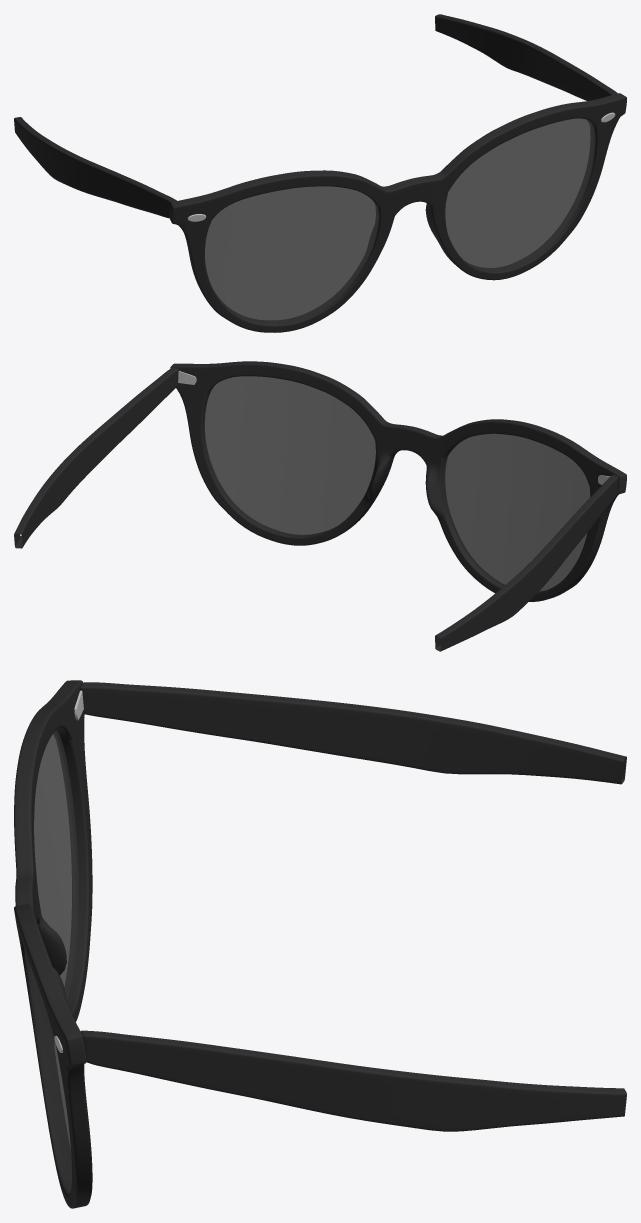
File: rb4305_app.glb
3 views of the same model, one above another, from view 1: azimuth 30°, elevation 25°; view 2: azimuth 150°, elevation 25°; view 3: azimuth 270°, elevation 25° (orthographic). The views are drawn at different scales.
Visible parts, largest first — view 1: lentes, armacao; view 2: lentes, armacao; view 3: armacao, lentes.
Boxes of the visible parts, bbox=[...] form: lentes: bbox=[205, 118, 595, 324]; armacao: bbox=[14, 14, 626, 332]; lentes: bbox=[204, 376, 590, 591]; armacao: bbox=[14, 361, 626, 651]; armacao: bbox=[14, 680, 626, 1208]; lentes: bbox=[24, 730, 78, 1192].
Bounding box in the file's own units: 0.1618 × 0.0555 × 0.1143.
Materials: 3 (3 with a texture image).
